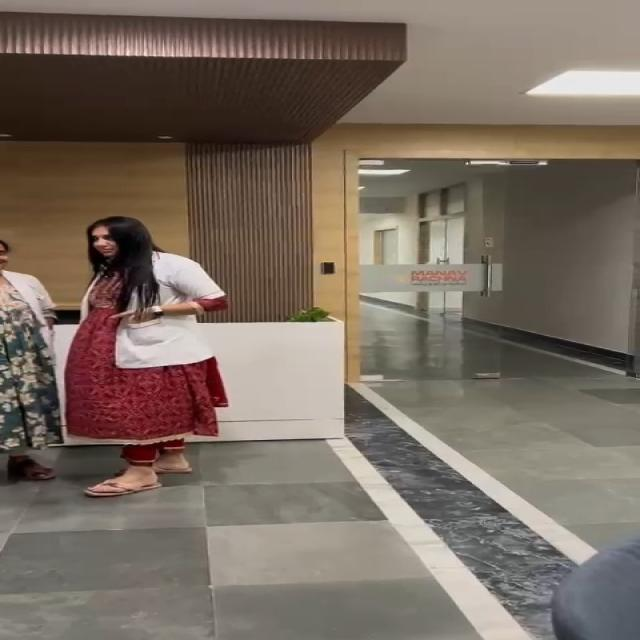floor: (0, 490, 586, 640), (355, 344, 640, 522)
moving_object: (0, 222, 234, 493)
wall: (0, 0, 640, 221)
